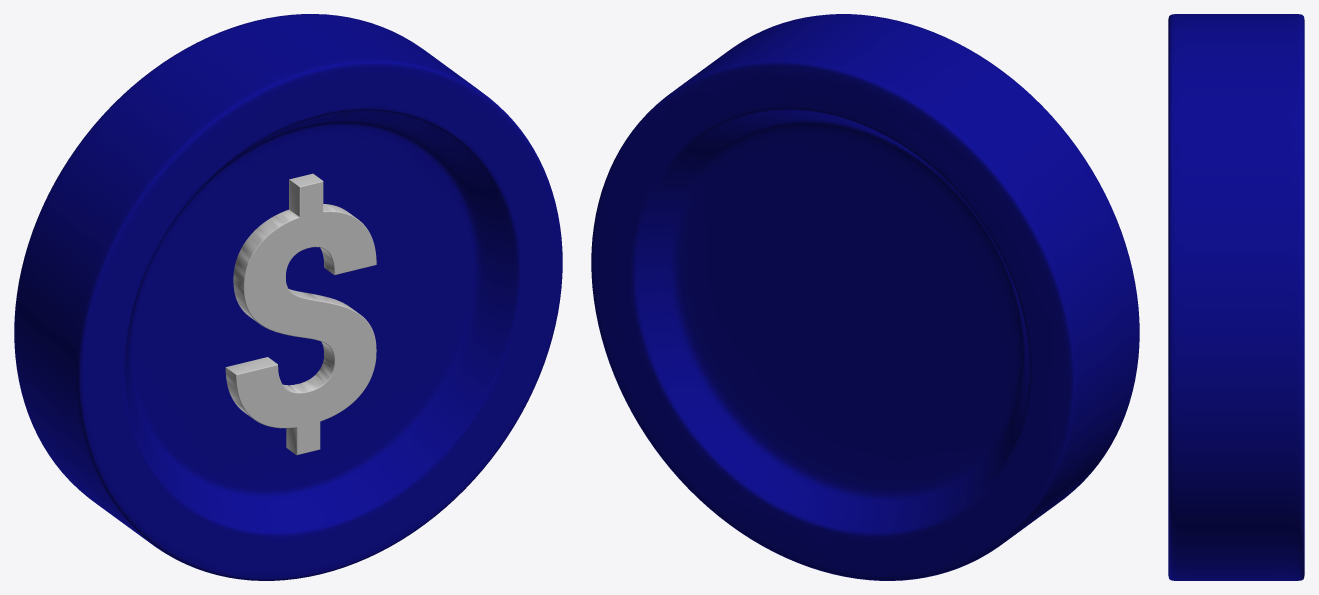
Rendered from dollar.glb.
The picture shows the model from 3 angles, left to right: view 1: azimuth 30°, elevation 25°; view 2: azimuth 150°, elevation 25°; view 3: azimuth 270°, elevation 25°; orthographic projection.
Visible parts, largest first — view 1: Dollar; view 2: Dollar; view 3: Dollar.
Boxes of the visible parts, left/top/right/bottom form: Dollar: left=14, top=14, right=562, bottom=580; Dollar: left=591, top=14, right=1139, bottom=580; Dollar: left=1168, top=14, right=1304, bottom=580.
Size of the model in its own units: 1.86 by 1.86 by 0.448.
